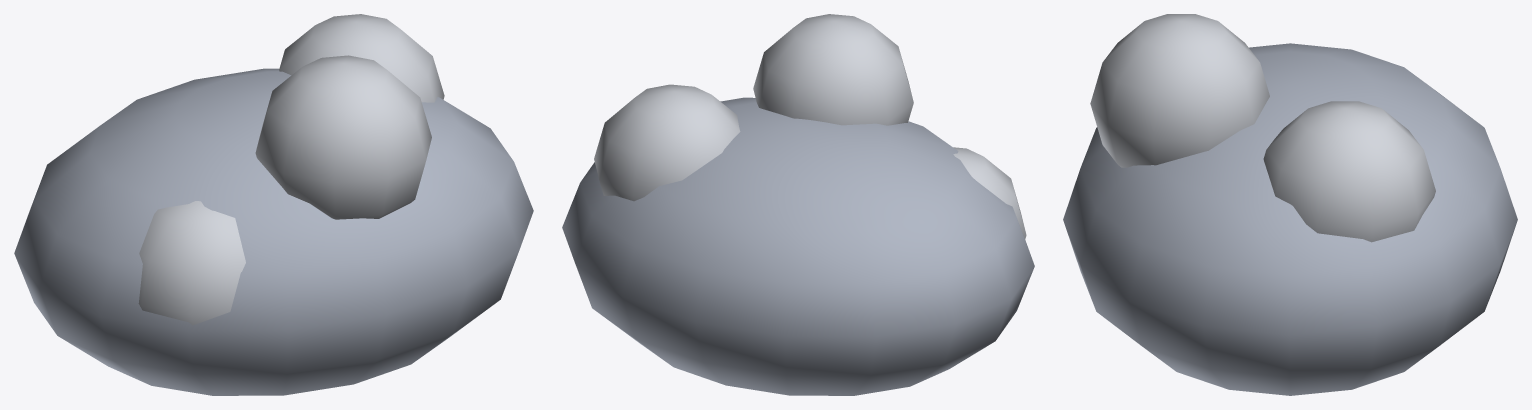
File: metal_gel.fbx
3 renders of one model, left to right at view 1: azimuth 30°, elevation 25°; view 2: azimuth 150°, elevation 25°; view 3: azimuth 270°, elevation 25°, orthographic. The views are drawn at different scales.
Parts seen in each view (by area): view 1: metal_gel; view 2: metal_gel; view 3: metal_gel.
Boxes of the visible parts, x1,y1,x2,y2 form: metal_gel: [14, 14, 533, 395]; metal_gel: [562, 14, 1034, 395]; metal_gel: [1063, 14, 1517, 395].
Bounding box in the file's own units: 0.6 × 0.4125 × 0.5.
